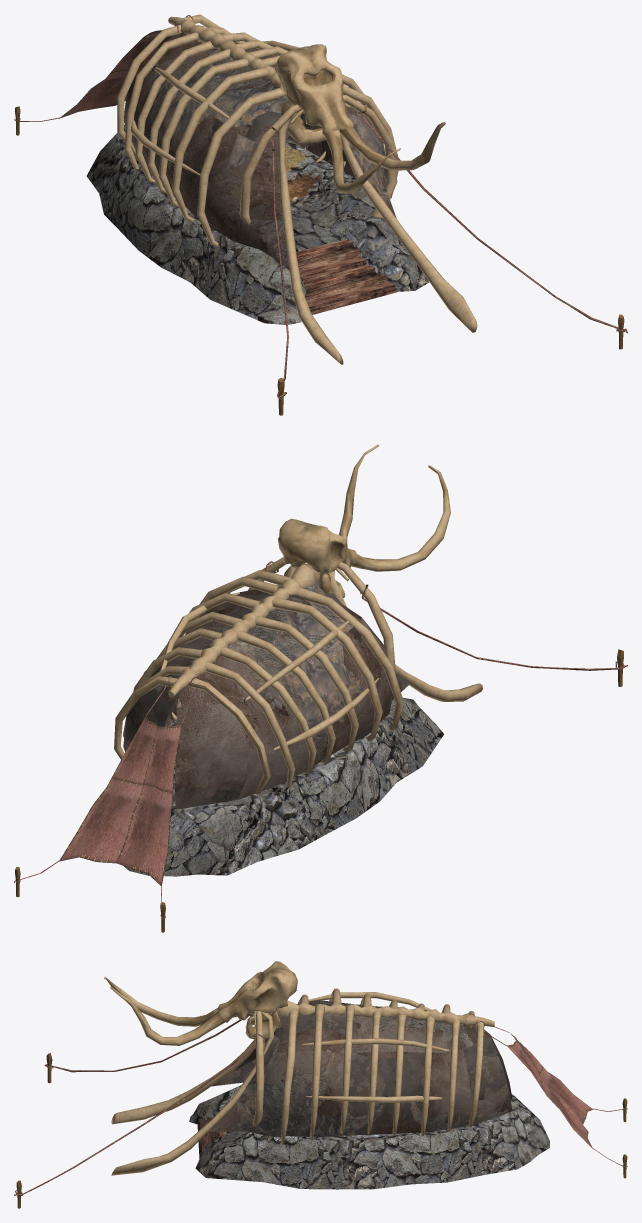
File: Mammoth_hut.FBX
3 renders of one model, top to bottom at view 1: azimuth 30°, elevation 25°; view 2: azimuth 150°, elevation 25°; view 3: azimuth 270°, elevation 25°, orthographic. The views are drawn at different scales.
Parts seen in each view (by area): view 1: Box01; view 2: Box01; view 3: Box01.
Part boxes in pixels (<box>): Box01: <box>14,14,627,415</box>; Box01: <box>14,444,627,932</box>; Box01: <box>14,961,627,1208</box>.
Size of the model in its own units: 125 by 81.37 by 248.
